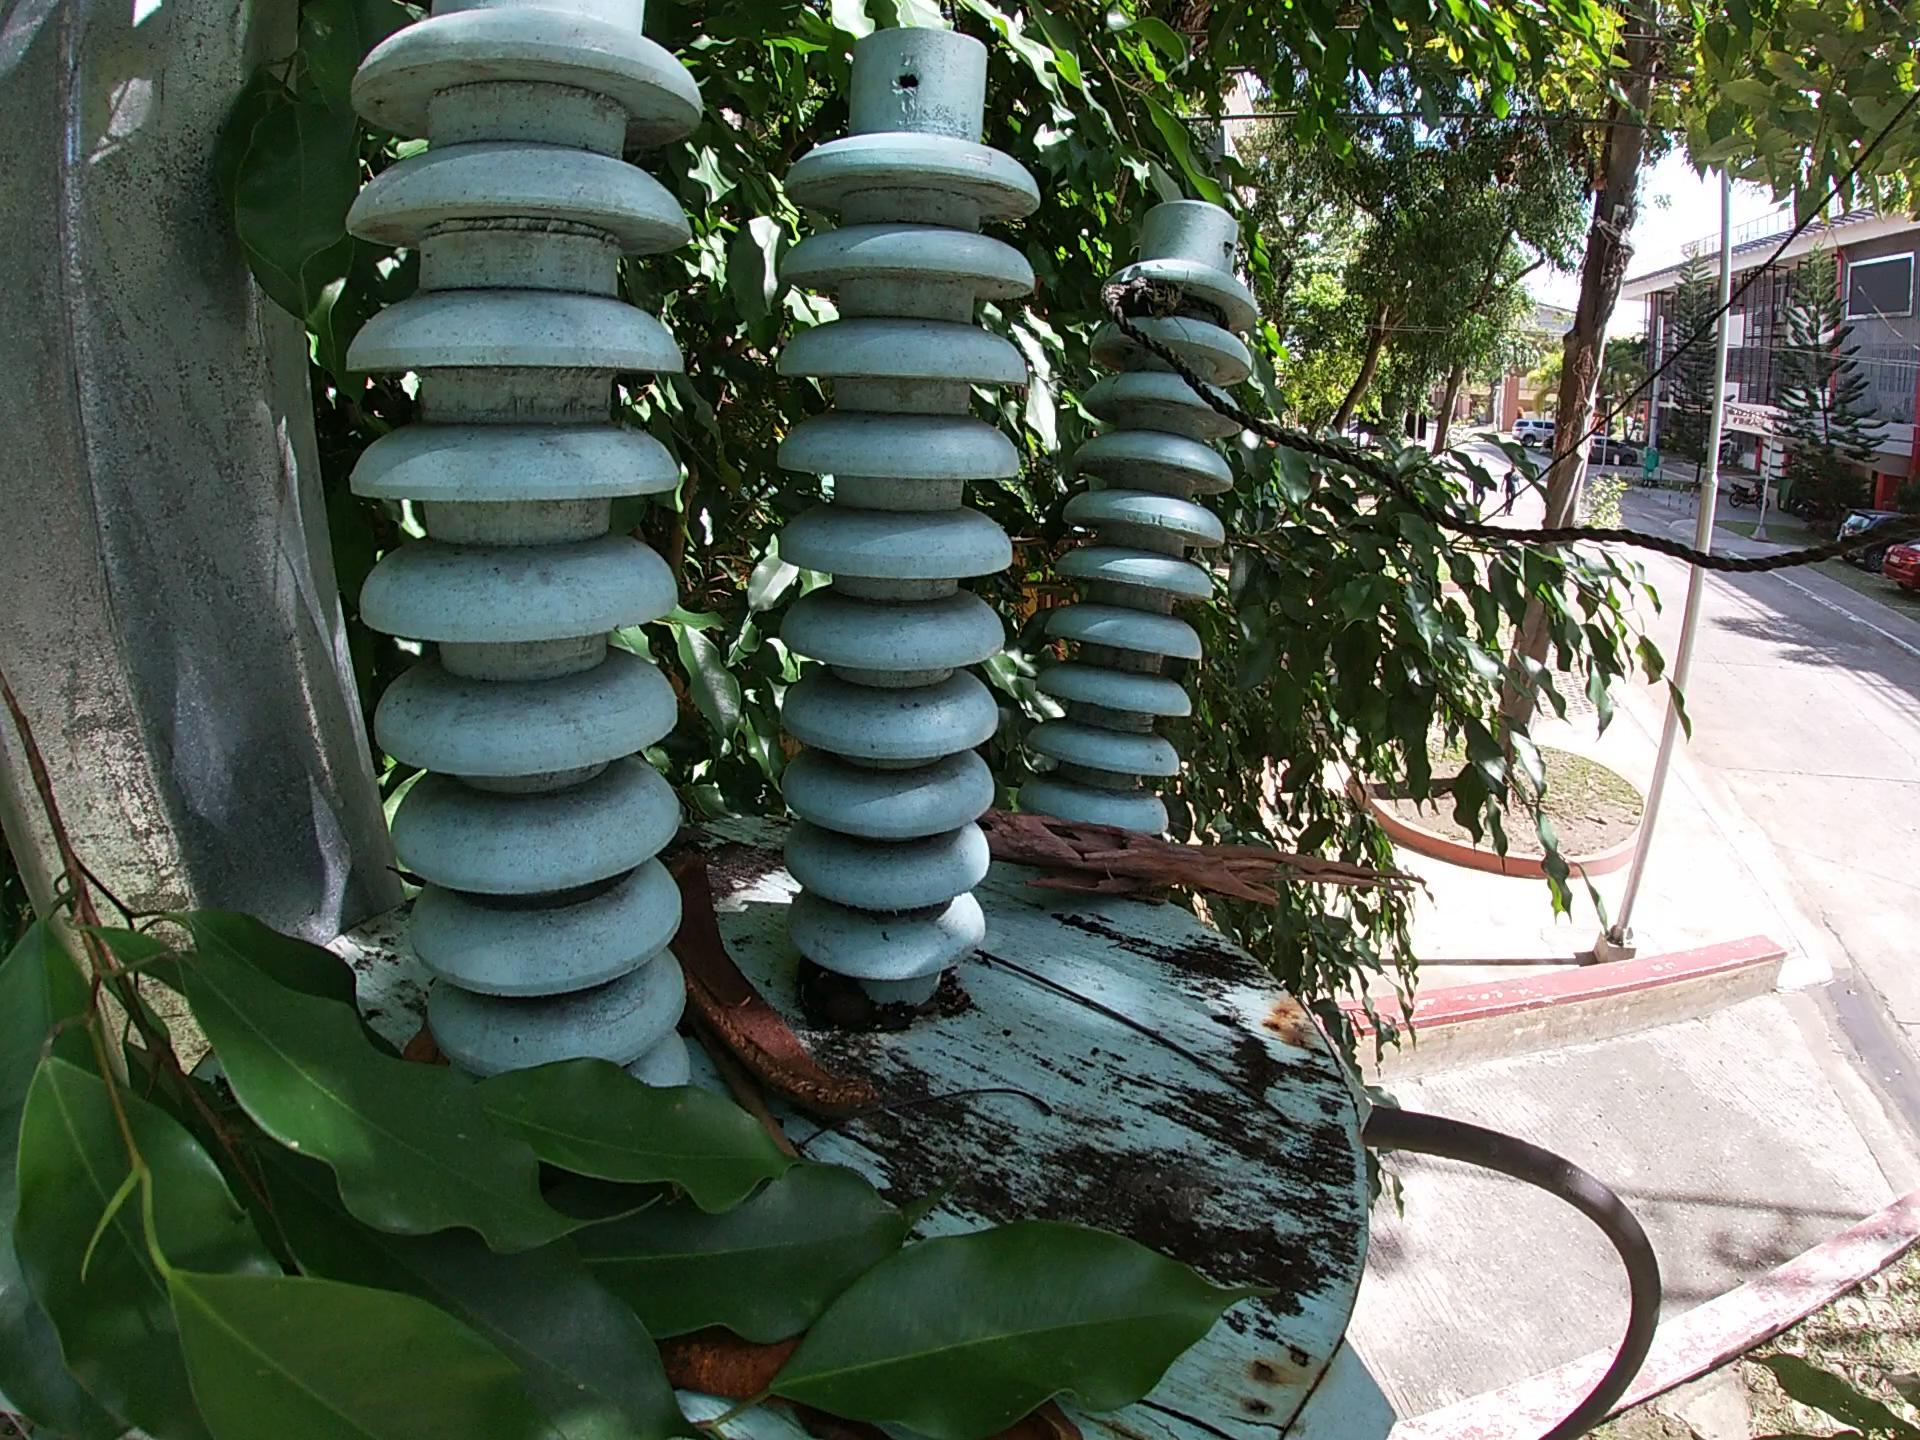branch with leaves: (3, 679, 1282, 1440)
mahogany fruit: (656, 849, 913, 1122), (656, 1336, 803, 1383)
tree branch: (958, 787, 1450, 951), (966, 927, 1335, 1128), (692, 1024, 807, 1153)
